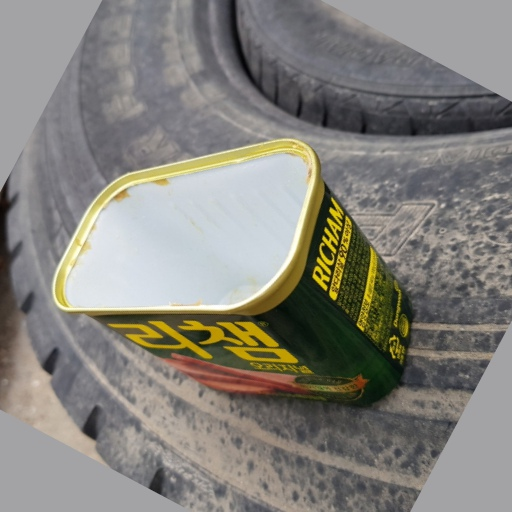Metal_2: (50, 139, 414, 407)
